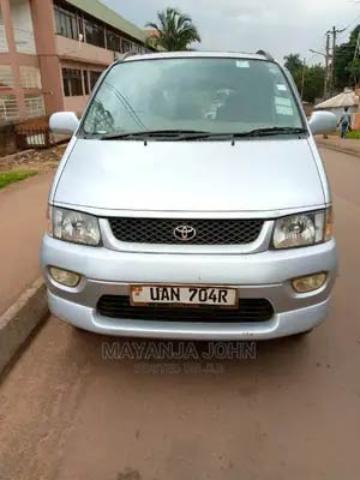van: (39, 45, 338, 345)
